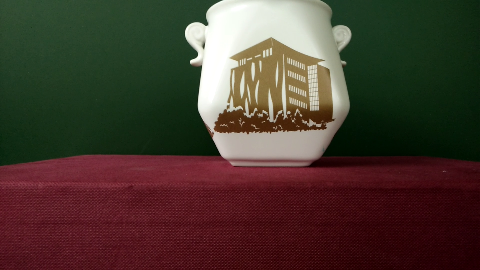library: (225, 50, 322, 124)
